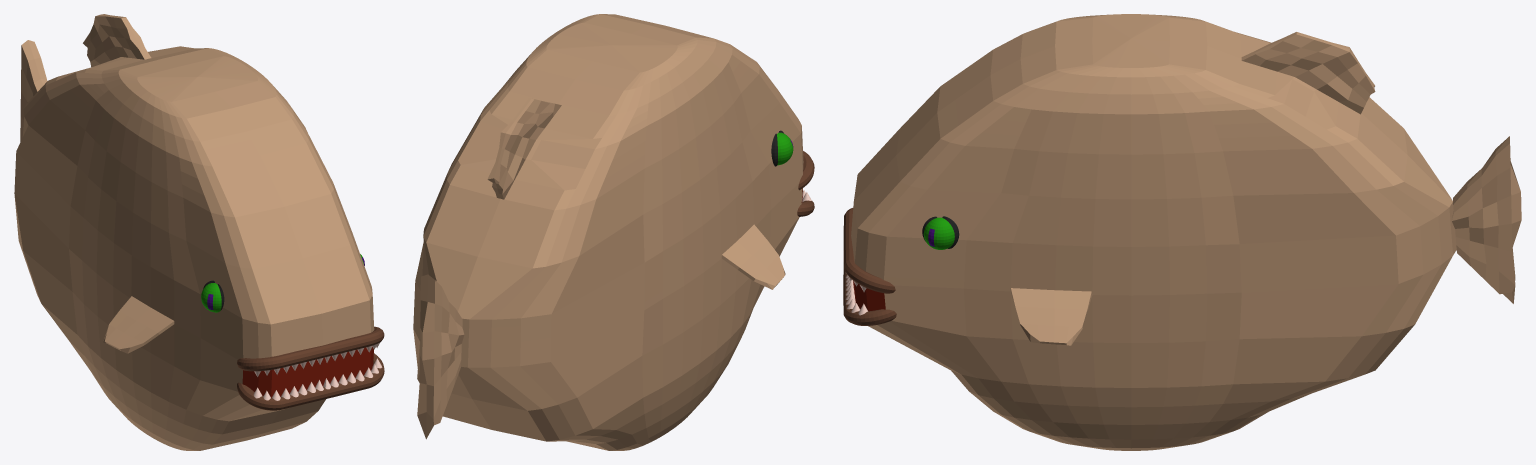
File: PygonattMutant_Naked.fbx
The picture shows the model from 3 angles, left to right: view 1: azimuth 30°, elevation 25°; view 2: azimuth 150°, elevation 25°; view 3: azimuth 270°, elevation 25°; orthographic projection. The views are drawn at different scales.
Parts seen in each view (by area): view 1: Sphere.002; view 2: Sphere.002; view 3: Sphere.002.
Part boxes in pixels (left/top/right/bottom): Sphere.002: left=14, top=14, right=384, bottom=450; Sphere.002: left=413, top=14, right=814, bottom=450; Sphere.002: left=843, top=14, right=1521, bottom=450.
Size of the model in its own units: 158 by 219 by 341.
Materials: 1 (1 with a texture image).
